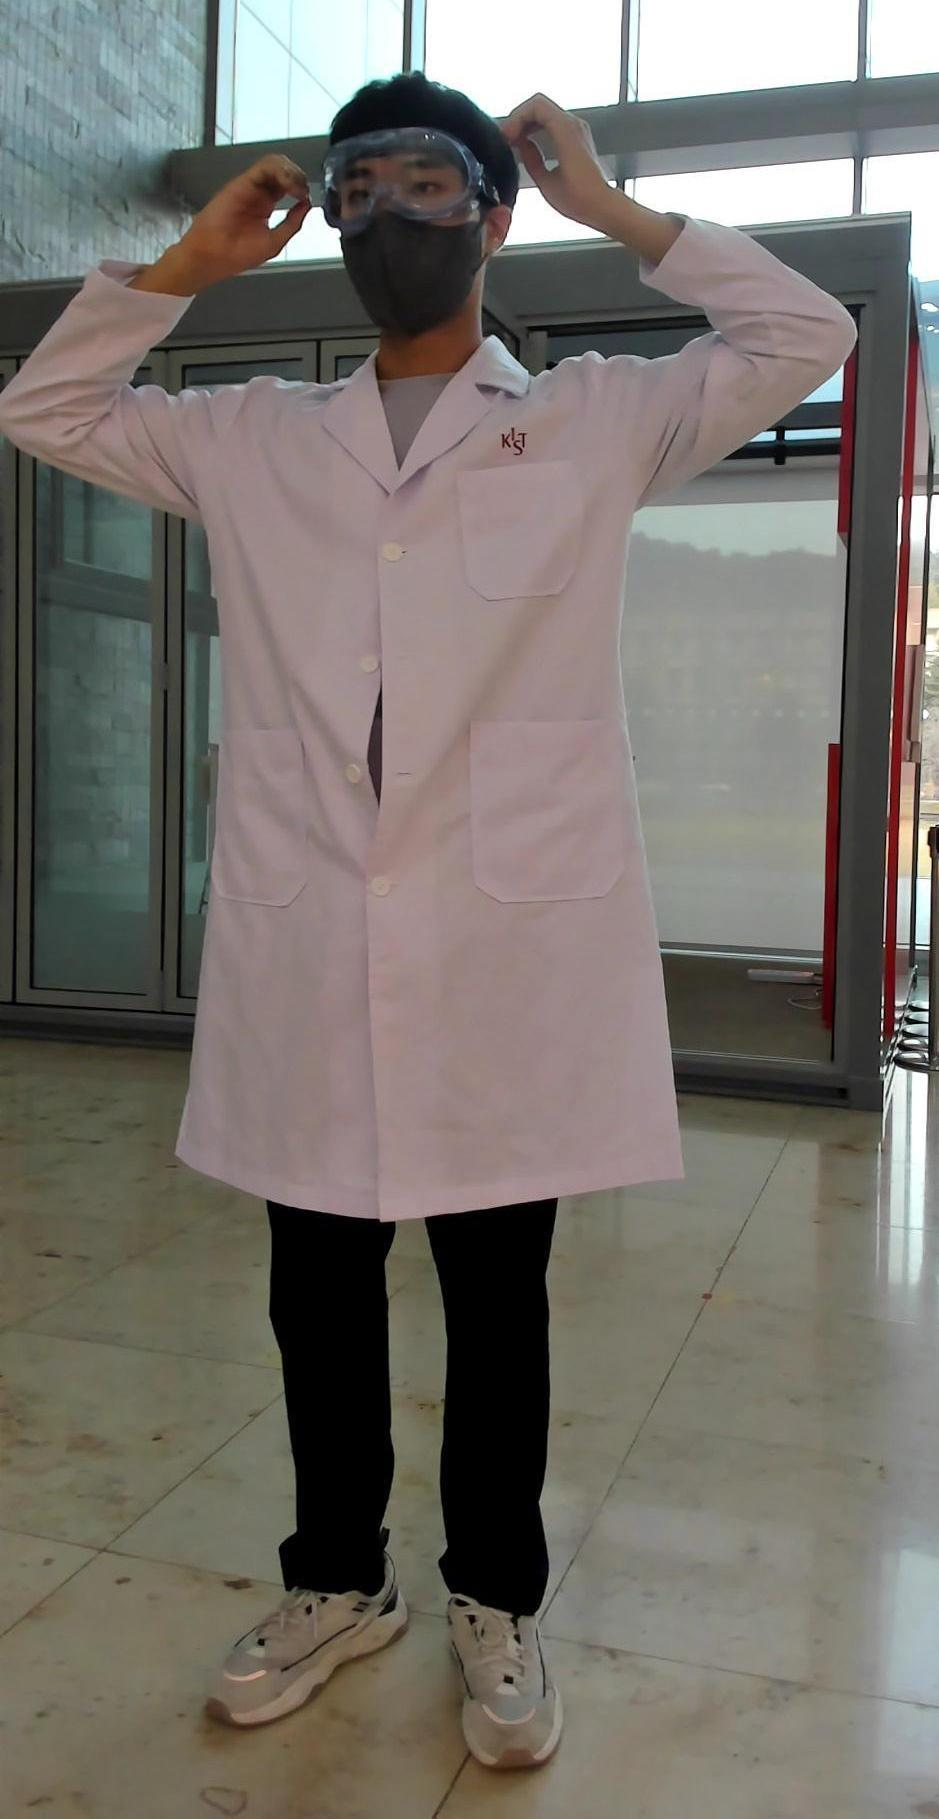lab_coat: (6, 341, 798, 1181)
